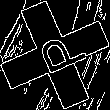P_SW: (24, 28, 86, 82)
